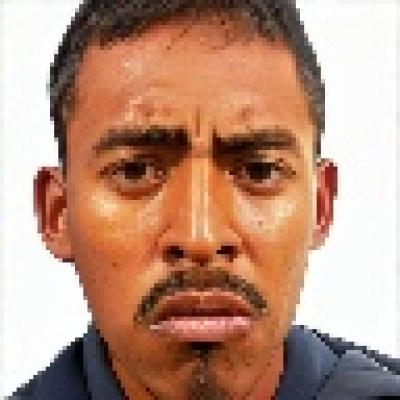sad: (63, 18, 317, 393)
